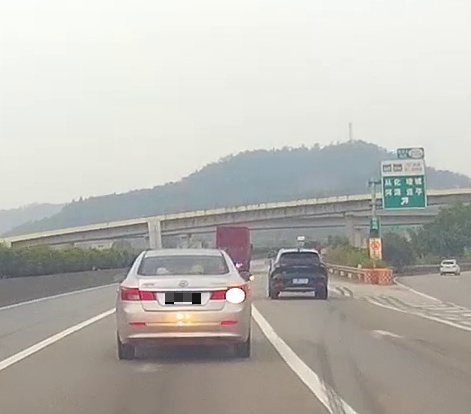L_light: (120, 286, 155, 301), (274, 263, 287, 268)
R_light: (209, 285, 247, 303), (313, 262, 325, 268)
T_light: (174, 268, 190, 274), (295, 252, 303, 255)
day-no: (270, 249, 327, 299)
day-right: (116, 248, 250, 357)
plate_1: (165, 293, 201, 304)
